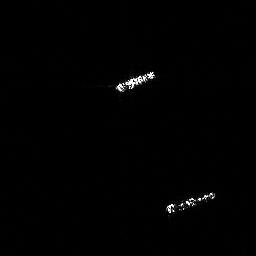ship: (164, 190, 218, 215), (114, 69, 157, 94)
